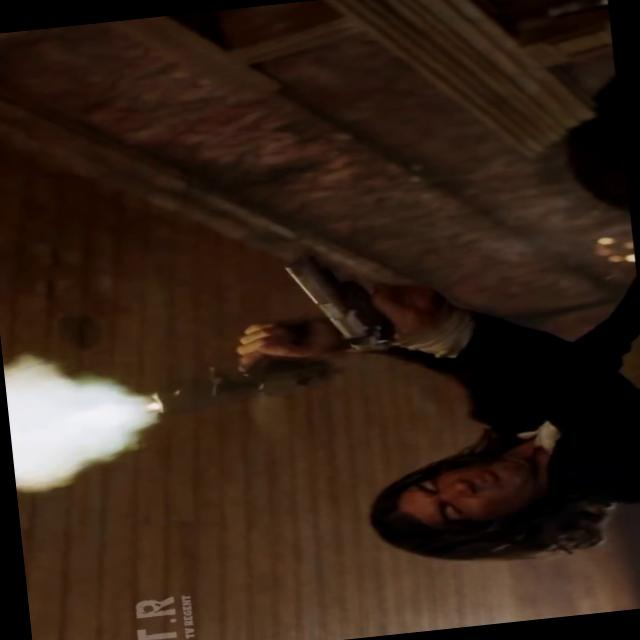handgun: (273, 222, 457, 361), (84, 338, 366, 428)
